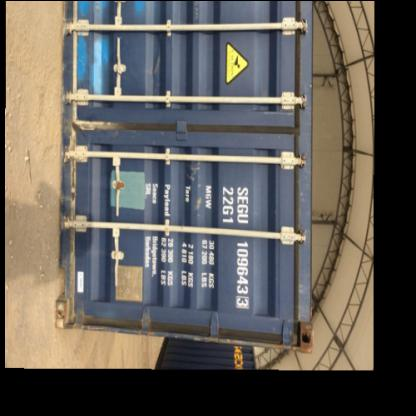Damage: (55, 224, 81, 328), (71, 102, 117, 154), (66, 157, 84, 227)
